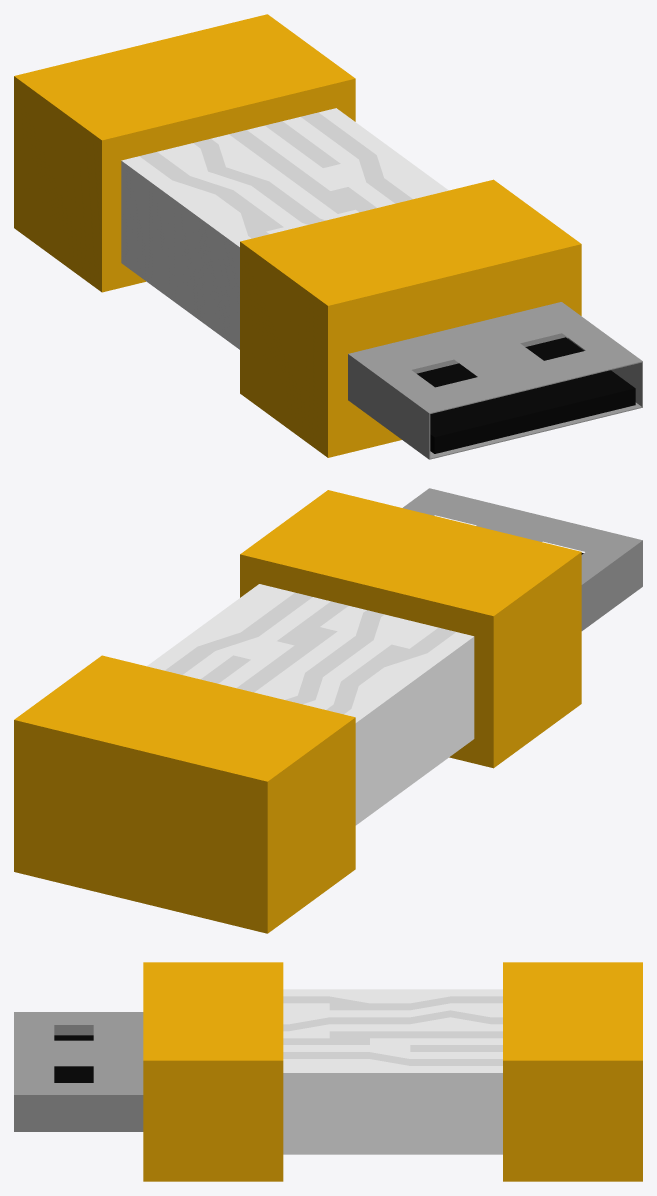
Rendered from USBModel2.fbx.
3 renders of one model, top to bottom at view 1: azimuth 30°, elevation 25°; view 2: azimuth 150°, elevation 25°; view 3: azimuth 270°, elevation 25°, orthographic. The views are drawn at different scales.
Visible parts, largest first — view 1: Cube; view 2: Cube; view 3: Cube.
Part boxes in pixels (x1=…): Cube: x1=14, y1=14, x2=642, y2=459; Cube: x1=14, y1=488, x2=642, y2=933; Cube: x1=14, y1=962, x2=642, y2=1181.
Size of the model in its own units: 121 by 69.31 by 327.
